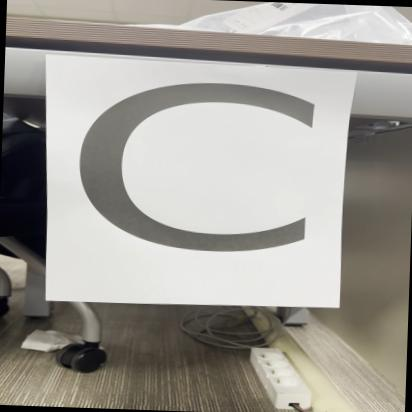seat: (39, 54, 346, 308)
